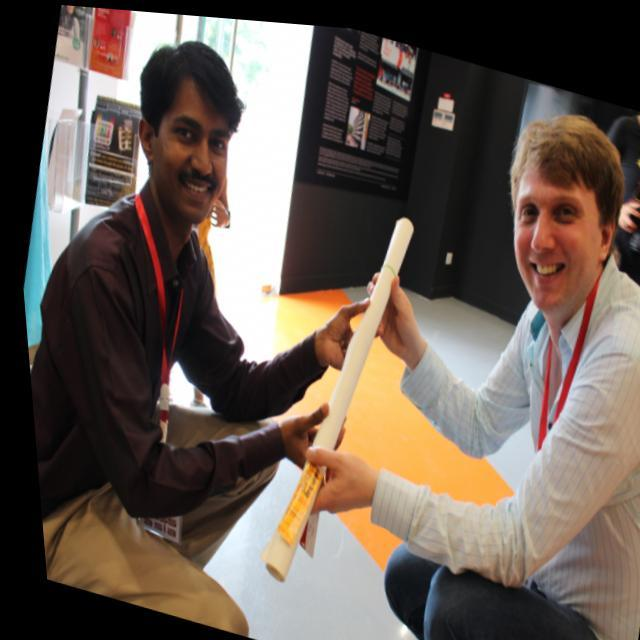Nonhelmet: (504, 111, 626, 315), (130, 35, 252, 228)
